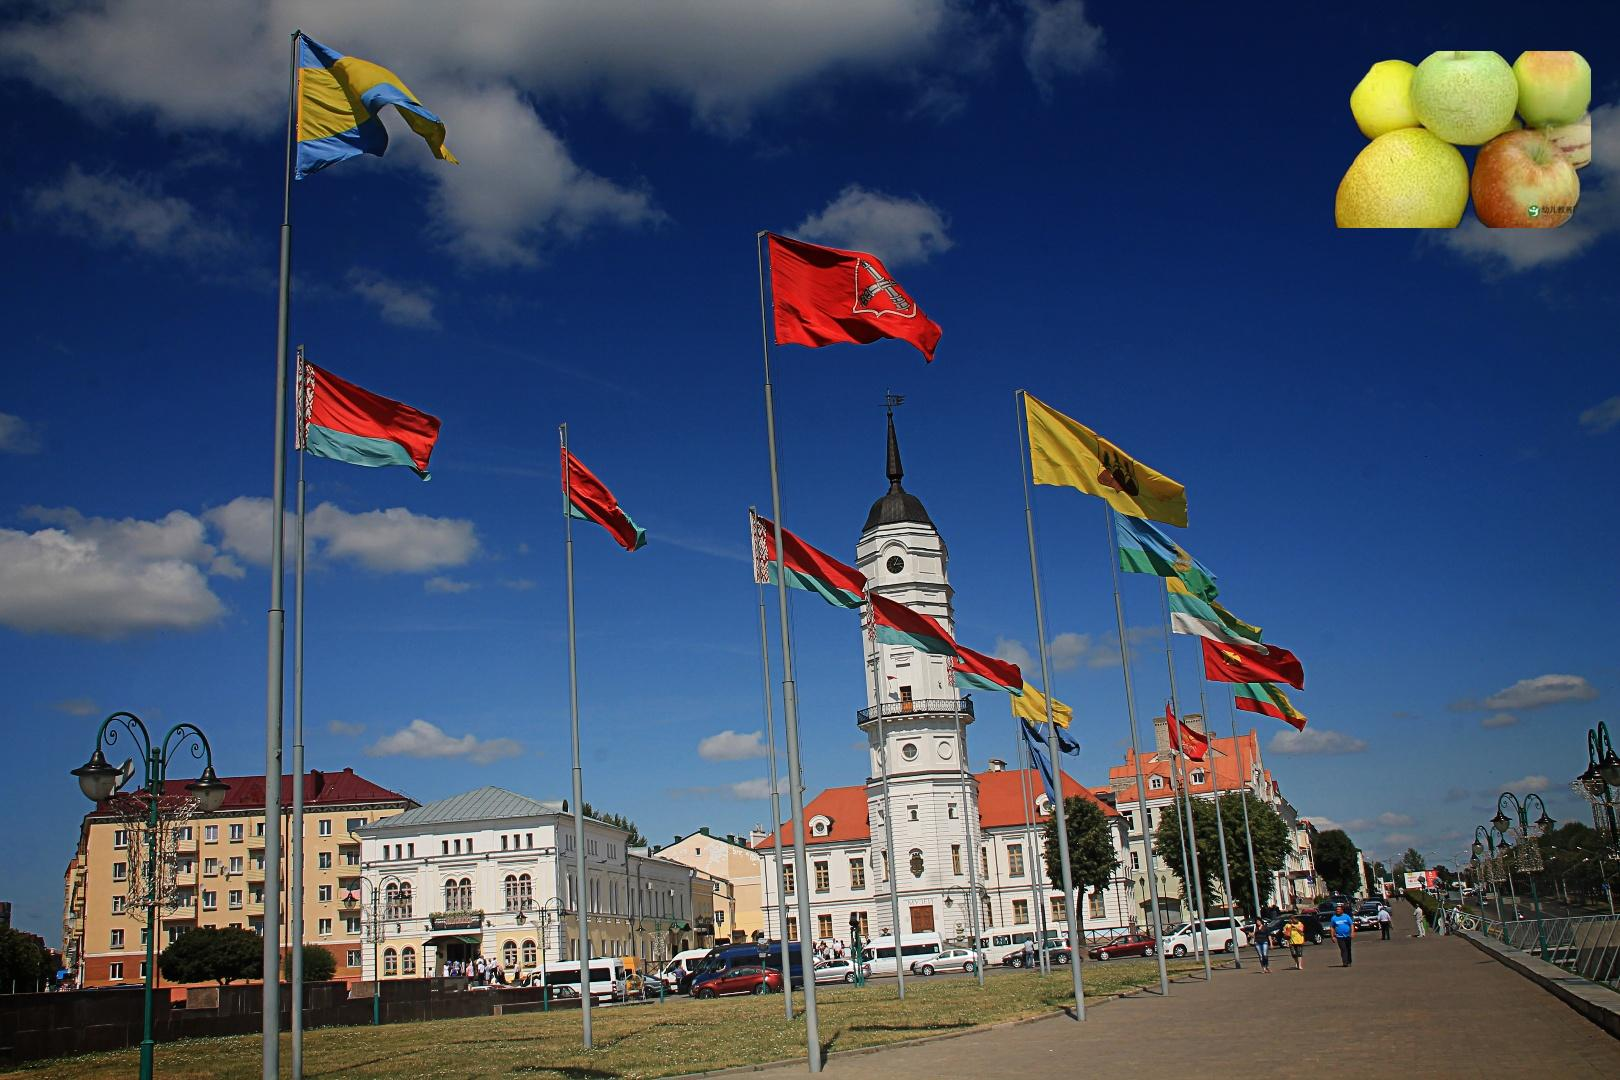biological: (1331, 51, 1591, 228)
